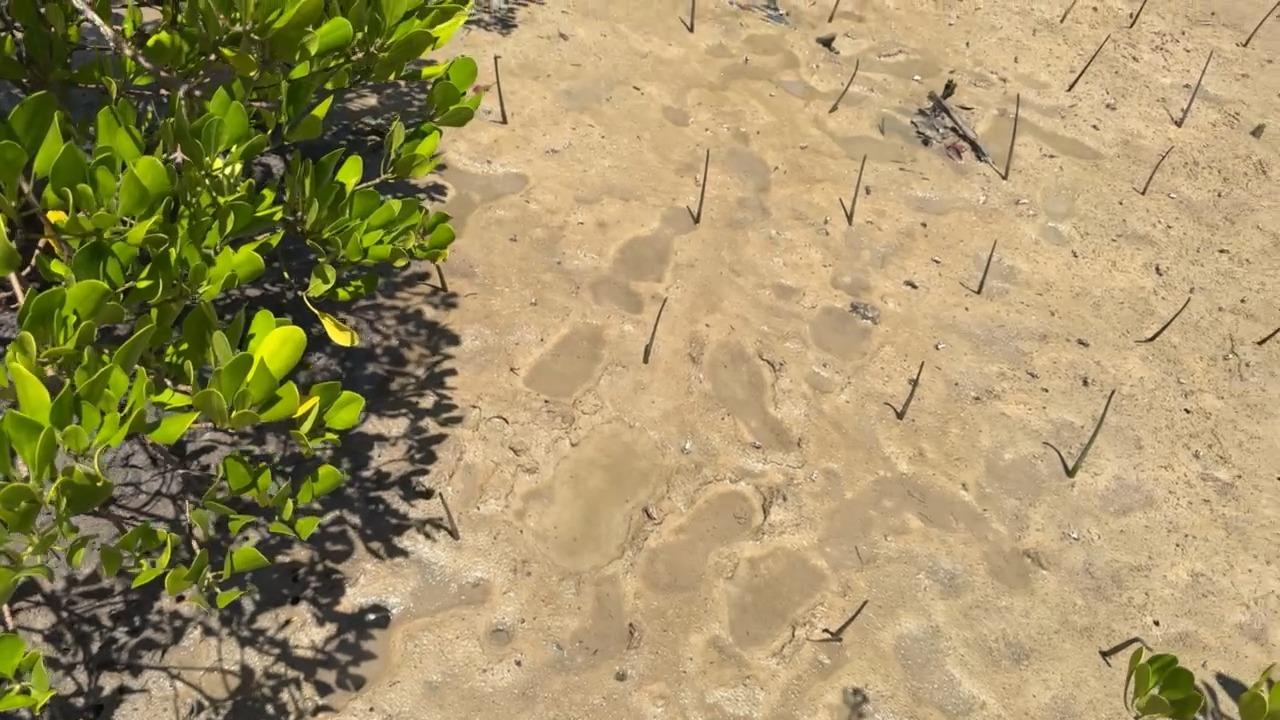Tree: (1068, 389, 1114, 479), (1179, 51, 1212, 129), (1068, 34, 1112, 90), (1152, 294, 1191, 342), (1245, 0, 1280, 47), (644, 295, 667, 365), (1142, 145, 1174, 195), (830, 59, 860, 112), (832, 601, 869, 639), (900, 363, 923, 419), (1004, 94, 1019, 179), (439, 491, 462, 540), (976, 240, 997, 293), (849, 156, 865, 225), (696, 148, 710, 226), (494, 54, 508, 124), (1100, 637, 1155, 654), (1130, 0, 1146, 29), (1255, 327, 1280, 344), (434, 261, 448, 291), (1058, 2, 1077, 22), (827, 0, 840, 23), (689, 0, 696, 33)
